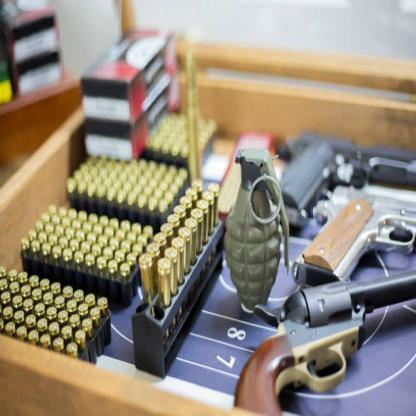Grenade: (226, 146, 290, 313)
Pistol: (234, 269, 416, 416), (276, 133, 416, 228), (292, 182, 416, 284)
